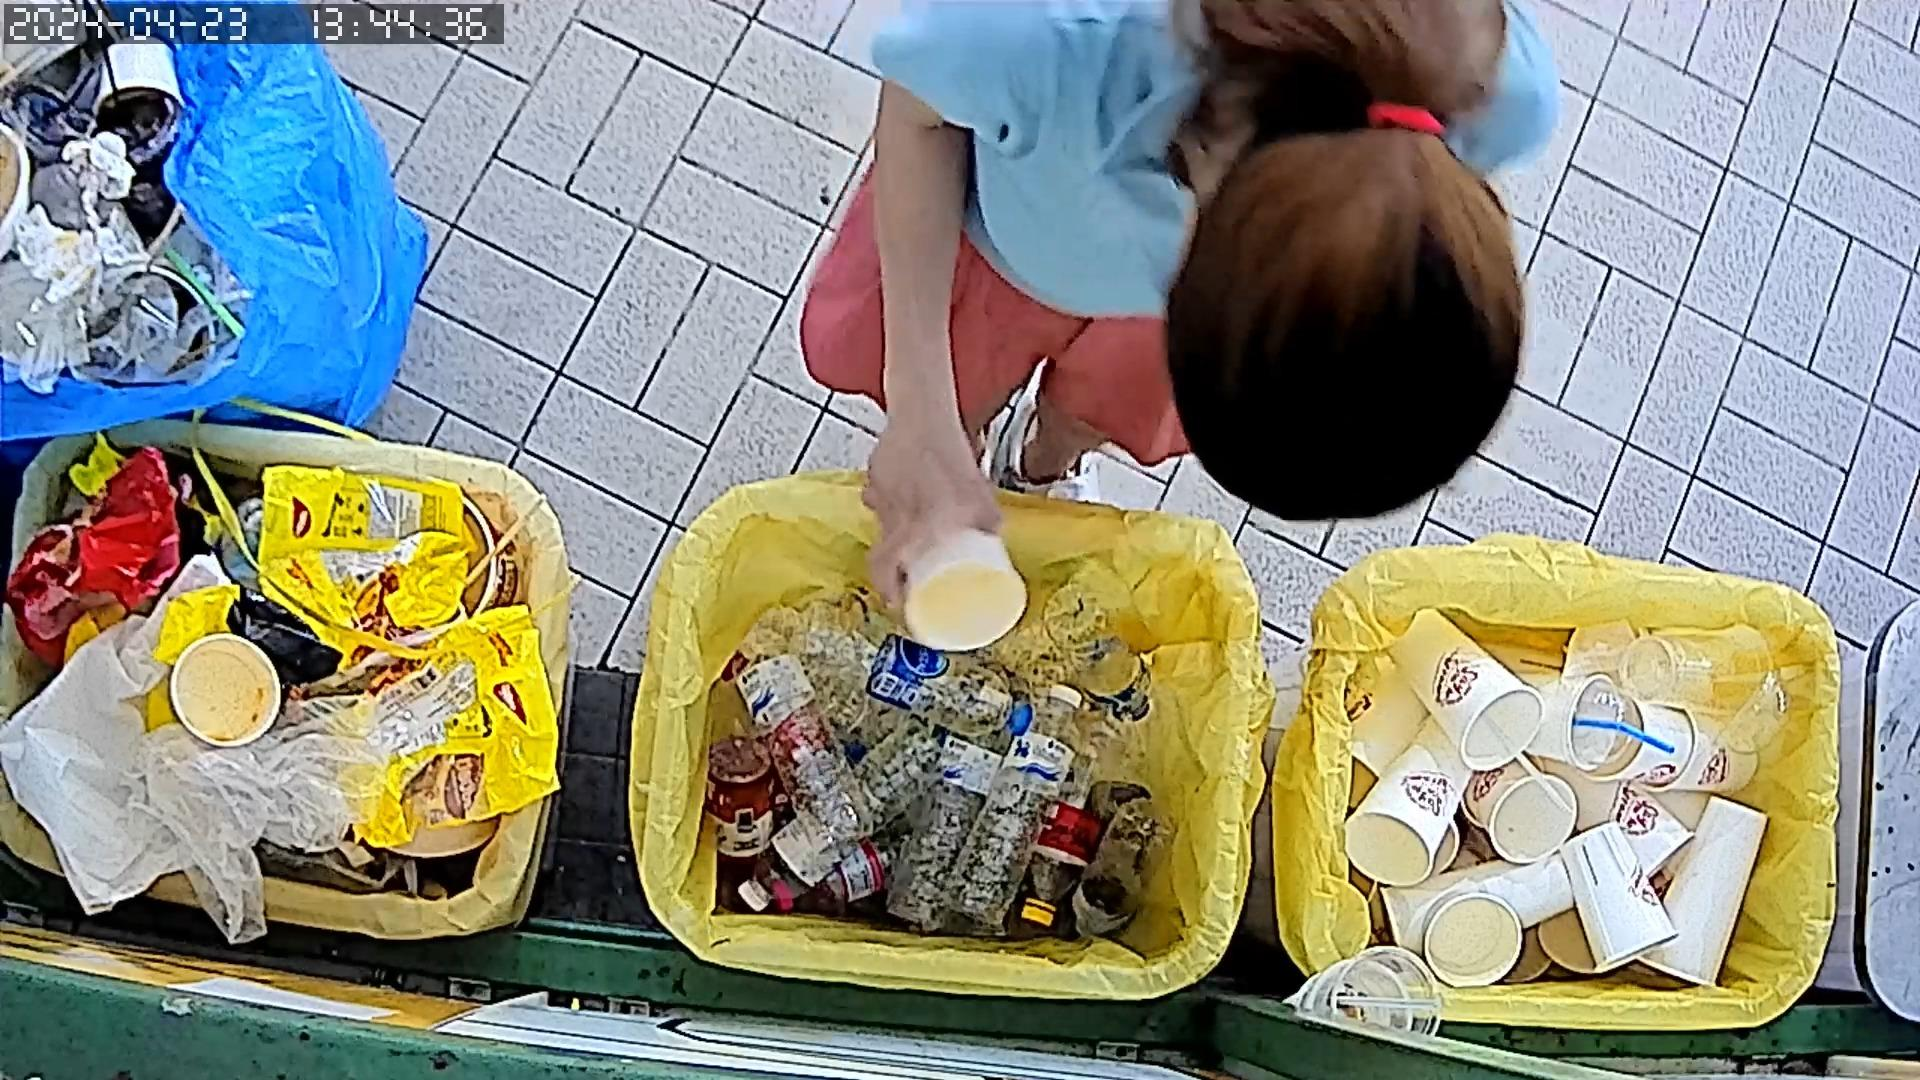can: (700, 731, 782, 866)
food container: (902, 521, 1031, 657), (171, 625, 285, 753), (1415, 884, 1526, 990)
plastic bag: (1, 554, 233, 920), (125, 692, 400, 944)
plastic bottle: (733, 708, 959, 914), (935, 679, 1095, 930), (874, 683, 1023, 931), (786, 597, 1031, 740), (731, 622, 864, 856), (1017, 705, 1135, 927), (1039, 575, 1156, 728), (1067, 795, 1176, 943)
plastic cup: (1617, 618, 1772, 712), (1714, 669, 1793, 757), (1571, 676, 1638, 771)
snack packaging: (335, 600, 571, 853), (256, 459, 475, 636), (5, 447, 181, 667), (152, 576, 240, 670)
sticks: (465, 491, 550, 587)
straw: (1480, 712, 1569, 814), (175, 251, 258, 348), (1571, 715, 1676, 756), (1333, 992, 1435, 1009)
tissue paper: (4, 200, 120, 307), (51, 137, 124, 204)
zero waste cup: (1386, 604, 1551, 774), (1633, 793, 1771, 988), (1342, 712, 1481, 890), (1375, 847, 1576, 964), (1555, 819, 1680, 977), (1498, 666, 1617, 771), (1635, 696, 1758, 796), (1465, 760, 1581, 865)
